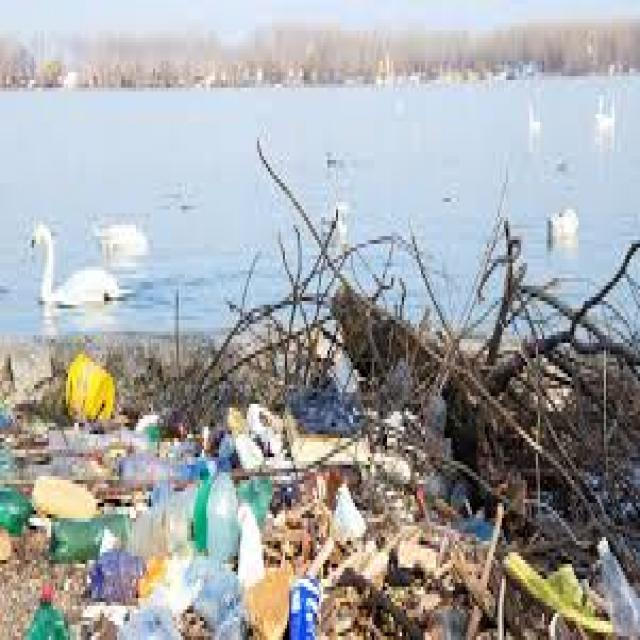heap: (52, 420, 377, 640)
